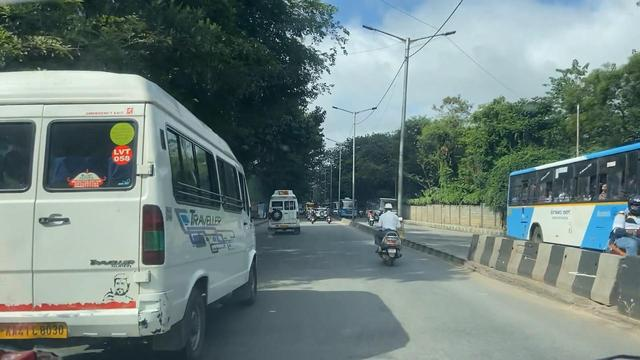HMV: (2, 76, 262, 358), (272, 186, 302, 241)
LMV: (372, 199, 413, 275)
